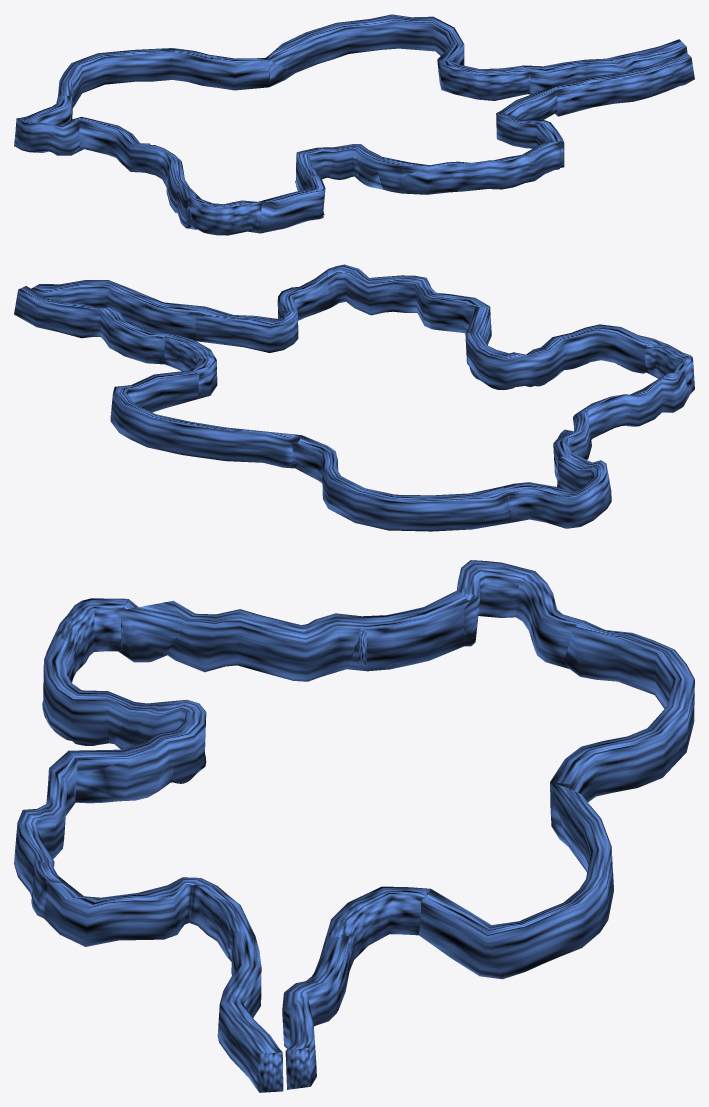
Rendered from LandscapeOuterReduced.fbx.
The picture shows the model from 3 angles, top to bottom: view 1: azimuth 30°, elevation 25°; view 2: azimuth 150°, elevation 25°; view 3: azimuth 270°, elevation 25°; orthographic projection. The views are drawn at different scales.
Visible parts, largest first — view 1: makevr_0004; view 2: makevr_0004; view 3: makevr_0004.
Boxes of the visible parts, bbox=[...] form: makevr_0004: bbox=[14, 14, 694, 235]; makevr_0004: bbox=[14, 264, 694, 531]; makevr_0004: bbox=[14, 560, 694, 1092].
Bounding box in the file's own units: 2149 × 190 × 1336.
